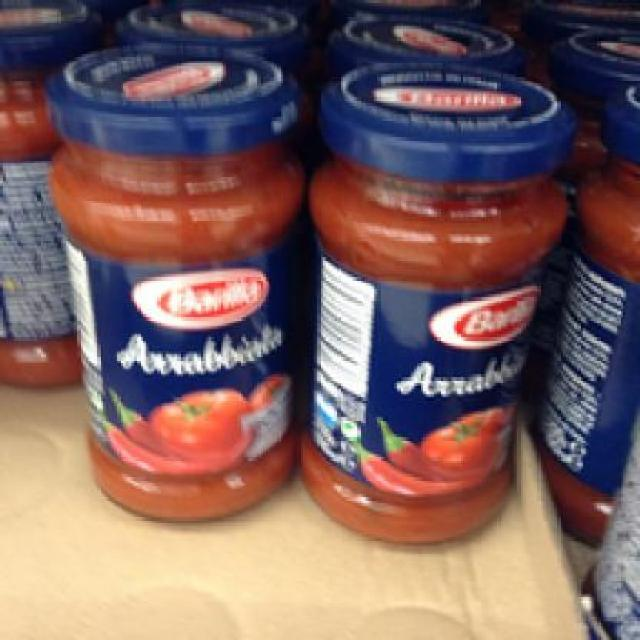Tomato Sauce: (296, 51, 570, 548), (43, 40, 303, 523)
